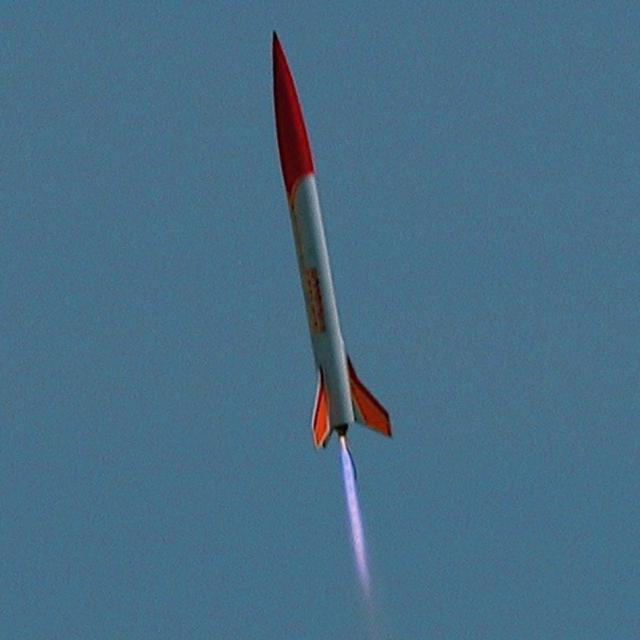missile: (260, 28, 401, 442)
